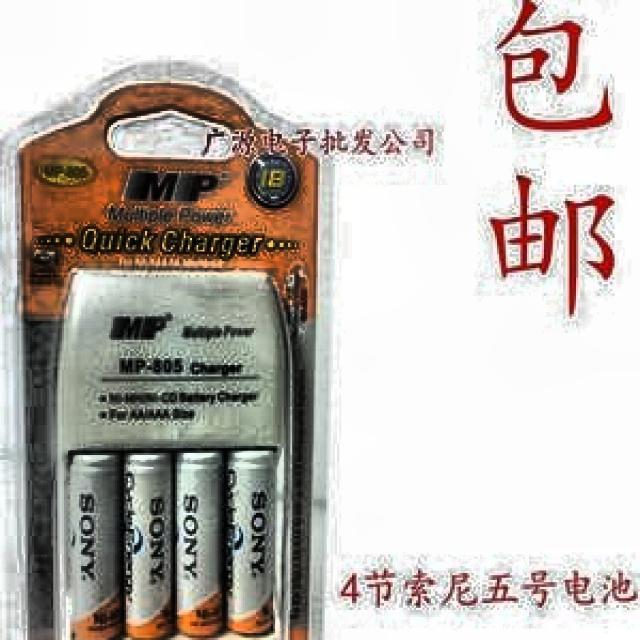battery: (69, 454, 122, 638), (124, 452, 174, 638), (175, 451, 224, 636), (226, 451, 275, 633)
